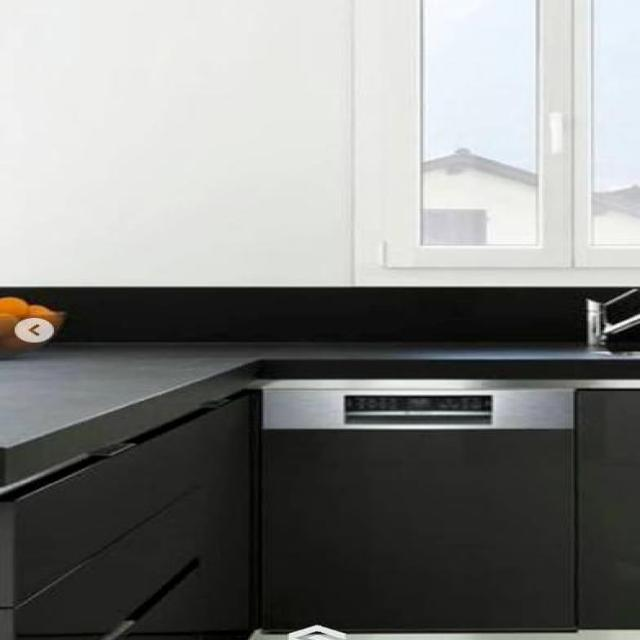dishwasher: (256, 376, 576, 632)
